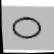no answer: (8, 14, 46, 43)
